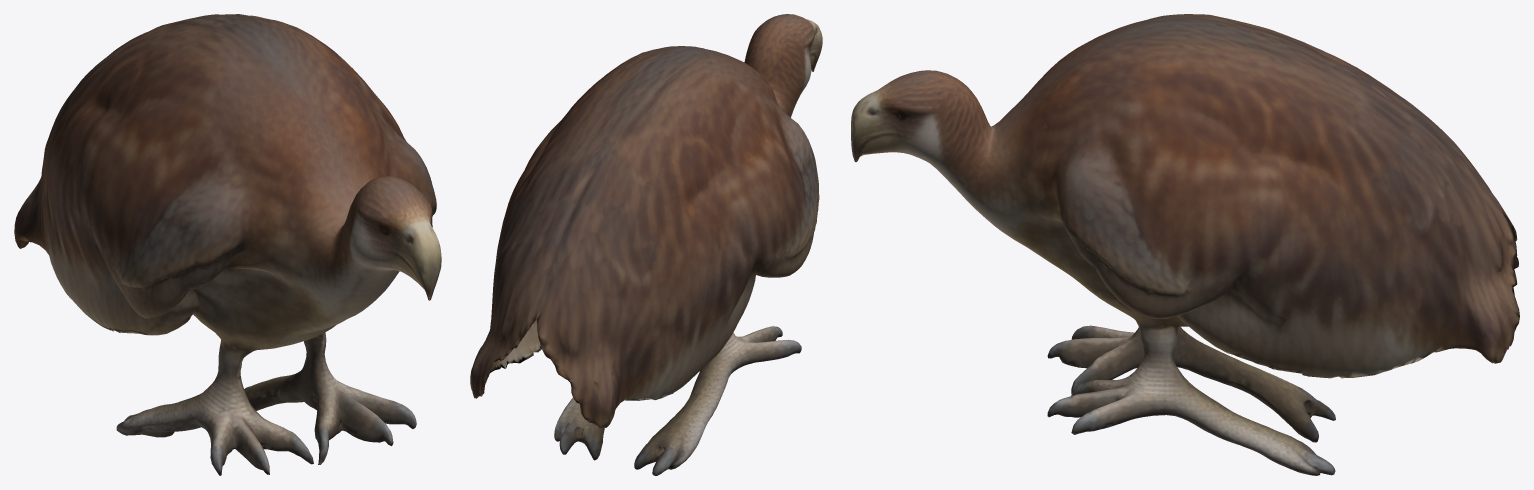
3 renders of one model, left to right at view 1: azimuth 30°, elevation 25°; view 2: azimuth 150°, elevation 25°; view 3: azimuth 270°, elevation 25°, orthographic. The views are drawn at different scales.
Parts seen in each view (by area): view 1: geometry_0; view 2: geometry_0; view 3: geometry_0.
Boxes of the visible parts, x1=… form: geometry_0: x1=14, y1=14, x2=441, y2=475; geometry_0: x1=470, y1=14, x2=822, y2=475; geometry_0: x1=851, y1=14, x2=1519, y2=475.
Bounding box in the file's own units: 0.342 × 0.5 × 0.7035.
Materials: 1 (1 with a texture image).
